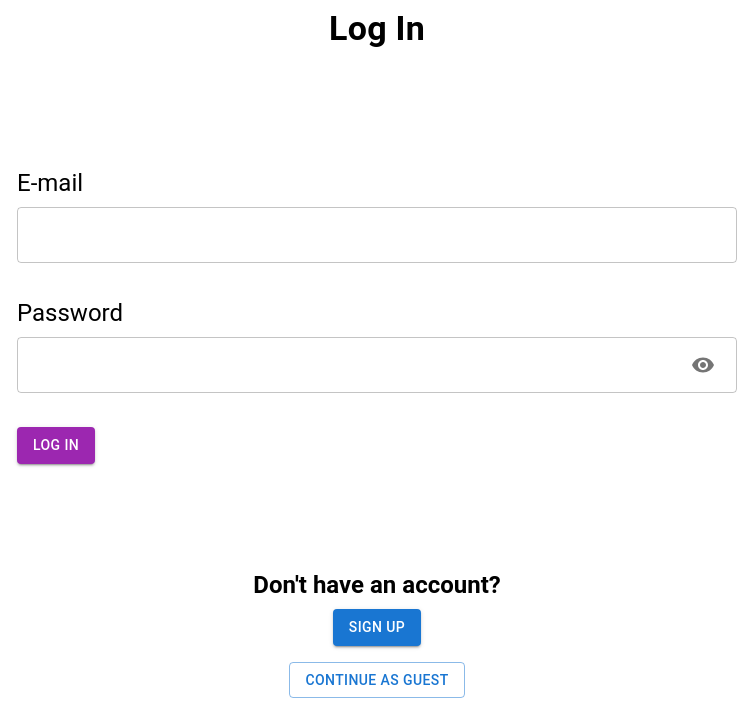
Login Page › Toggle password visibility
The image size is (754, 715).
Click the button named "display the password": (703, 365) [683,345,723,385]
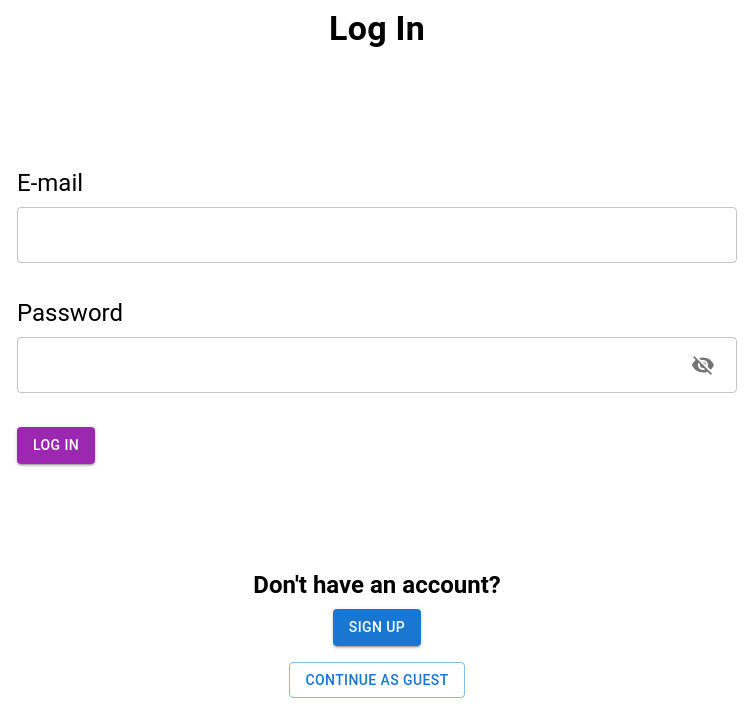
Now the button named "hide the password" is shown, box [683,345,723,385]
